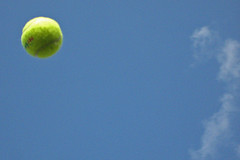tennis ball: (20, 16, 64, 59)
